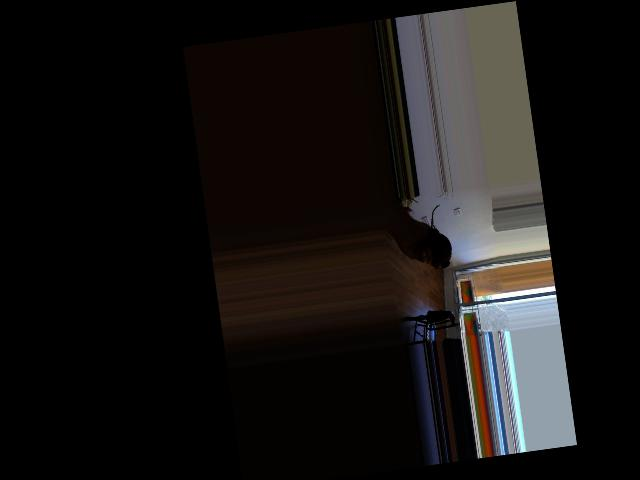beet: (424, 204, 453, 270)
